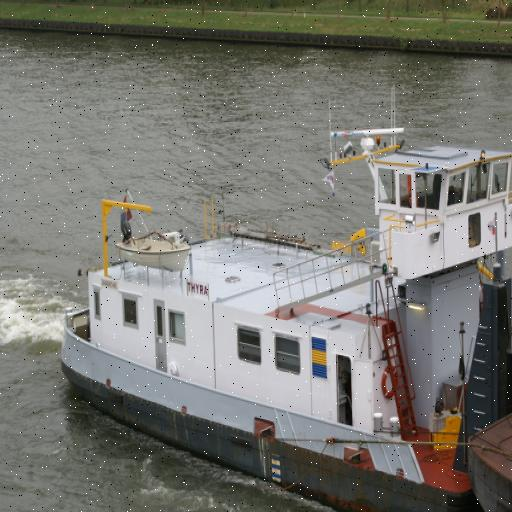tugboat: (58, 82, 512, 512)
